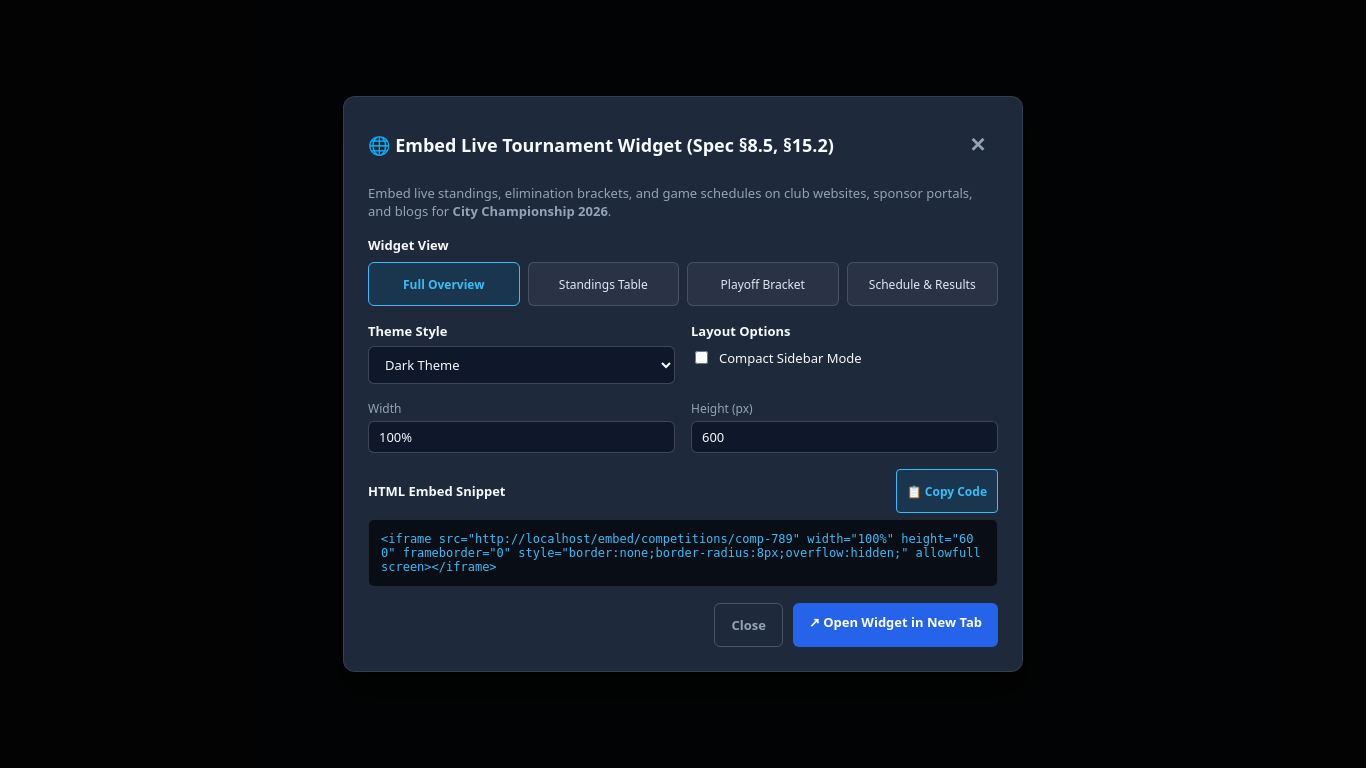
Test case: CompetitionEmbedModal Component (Spec §8.5, §15.2) › updates snippet when switching view and theme
This screenshot has width=1366, height=768.
// Switch to standings view
Click the button "Standings Table" at (603, 284), box [528,262,679,306]
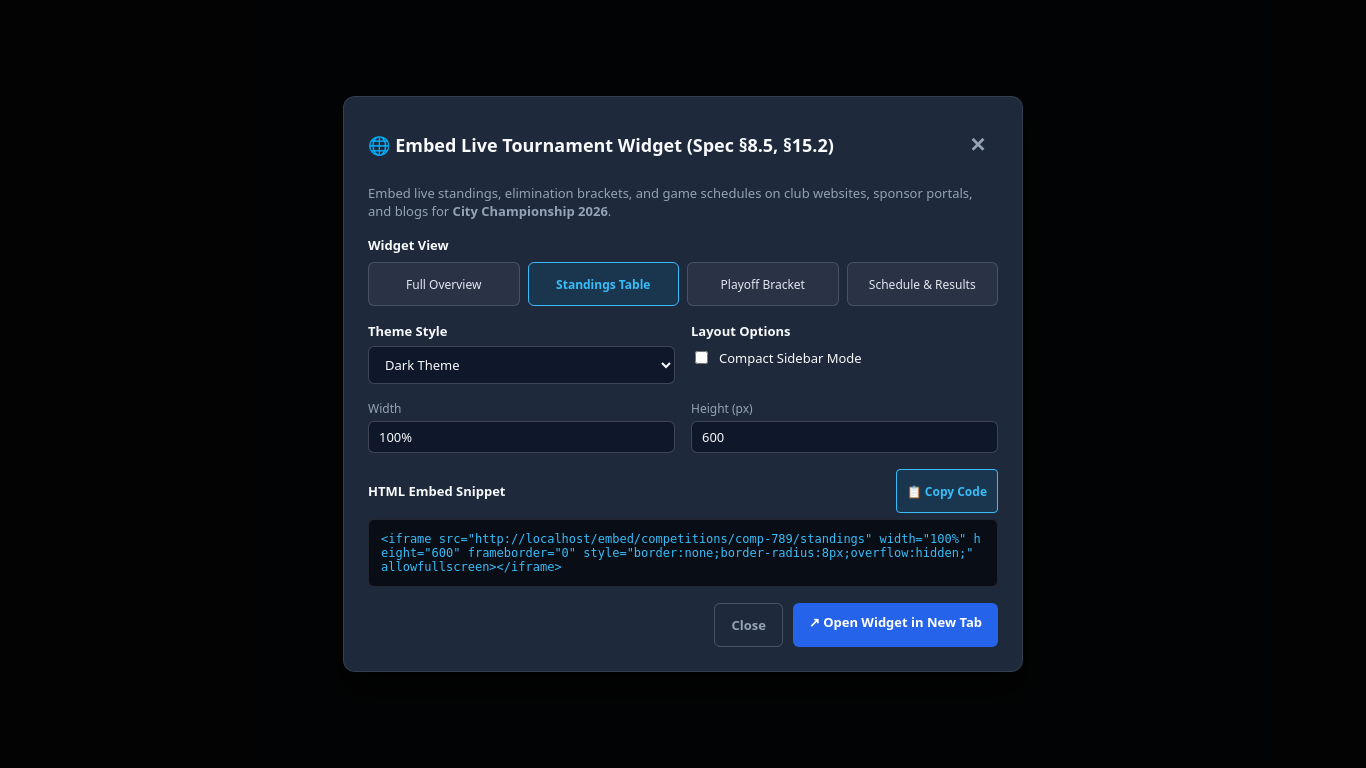
Check: the text "embed/competitions/comp-789/standings" is shown, box [381,532,981,574]
// Switch theme to light
Select "Light Theme" in the dropdown labelled "Theme Style" at (522, 365), box [368,346,675,384]
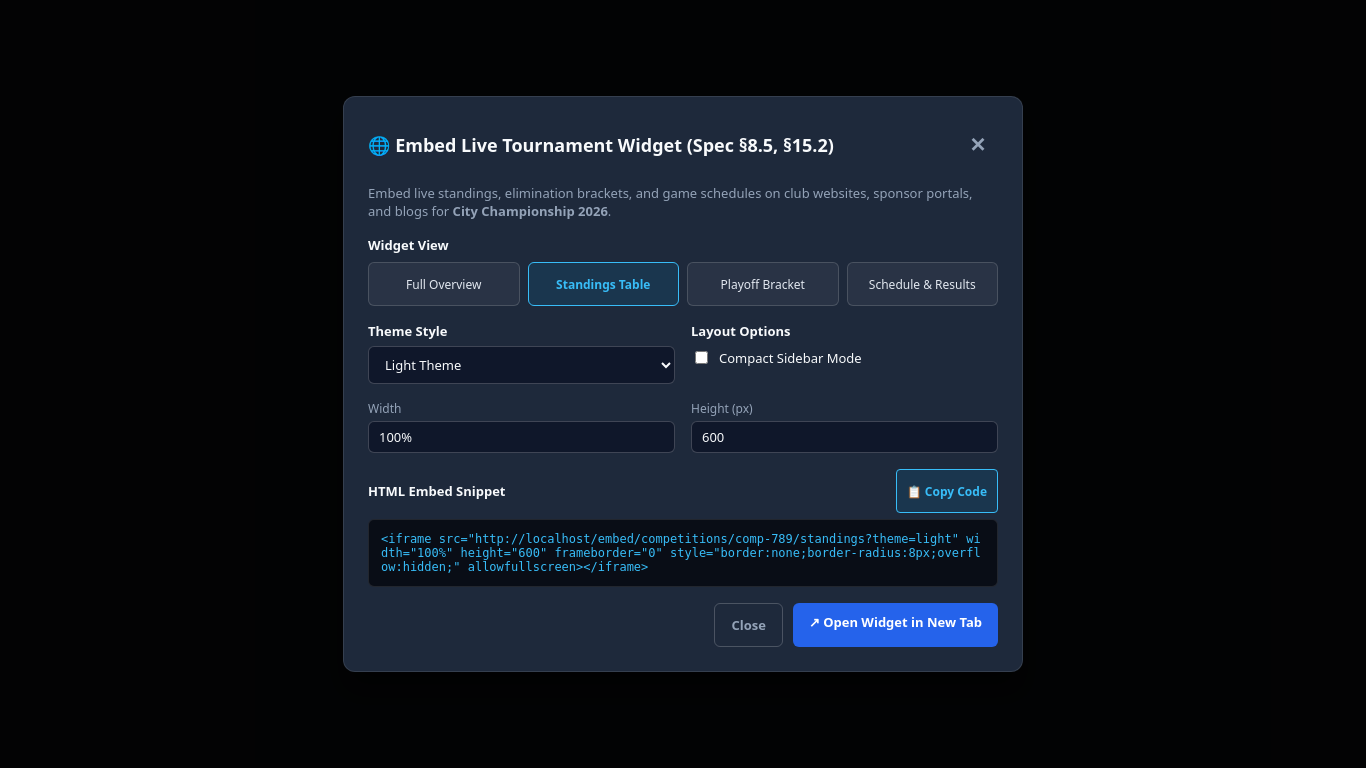
Check: the text "theme=light" is shown, box [381,532,981,574]
// Toggle compact mode
Click the checkbox labelled "Compact Sidebar Mode" at (702, 358), box [695,351,708,364]
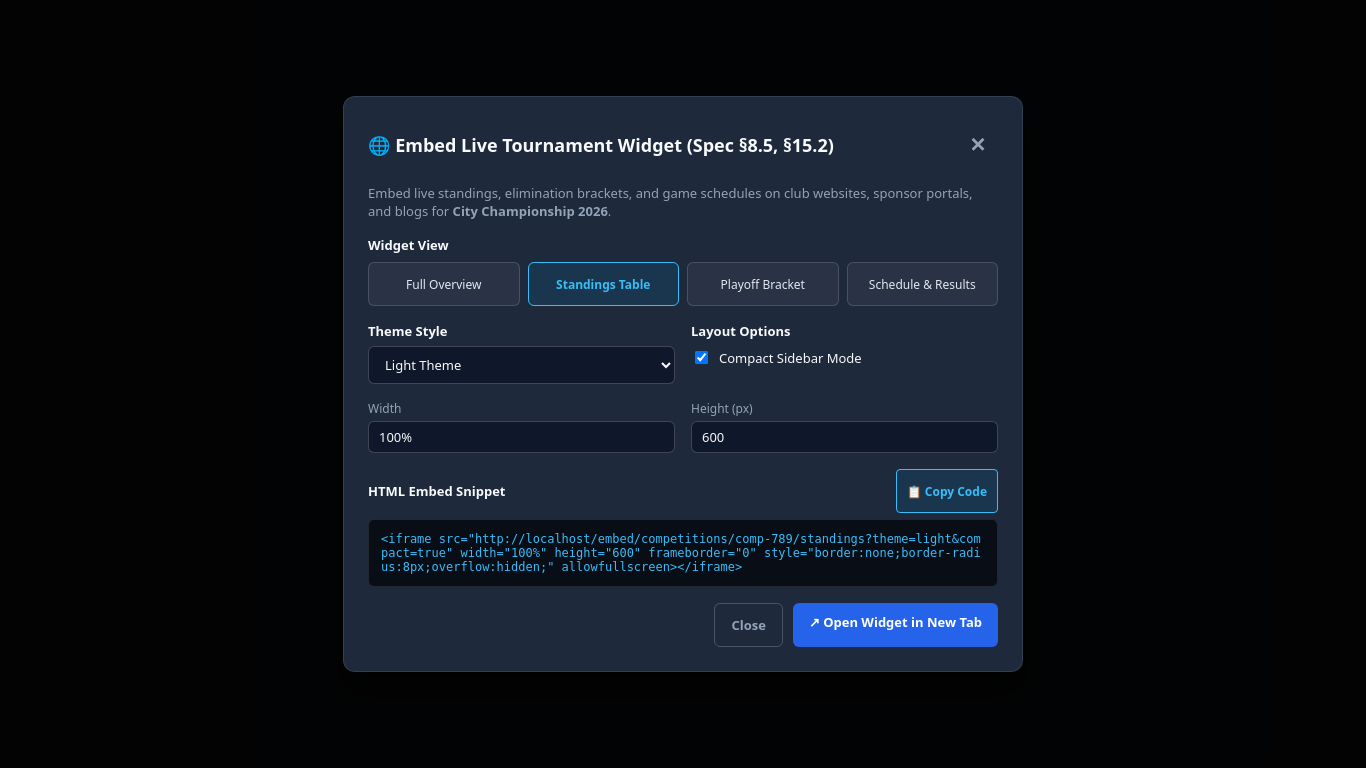
Check: the text "compact=true" is shown, box [381,532,981,574]
